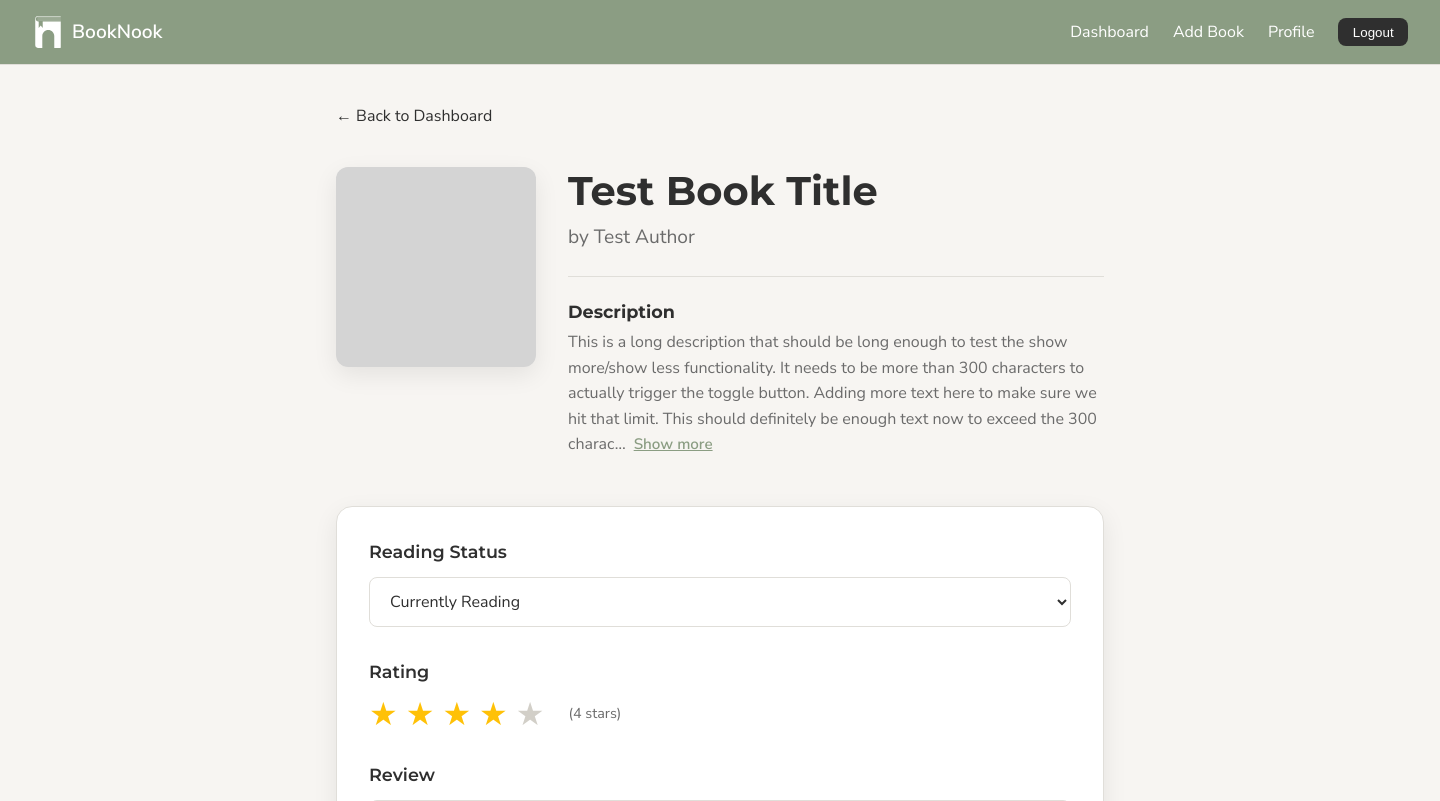
Test: BookDetails › toggles description show more/less
The image size is (1440, 801).
Expected: the heading "Test Book Title" is shown, 568,166 -> 878,215
Click the button with aria-label "Show more description". click: (673, 444)
box: 634,434 -> 713,454
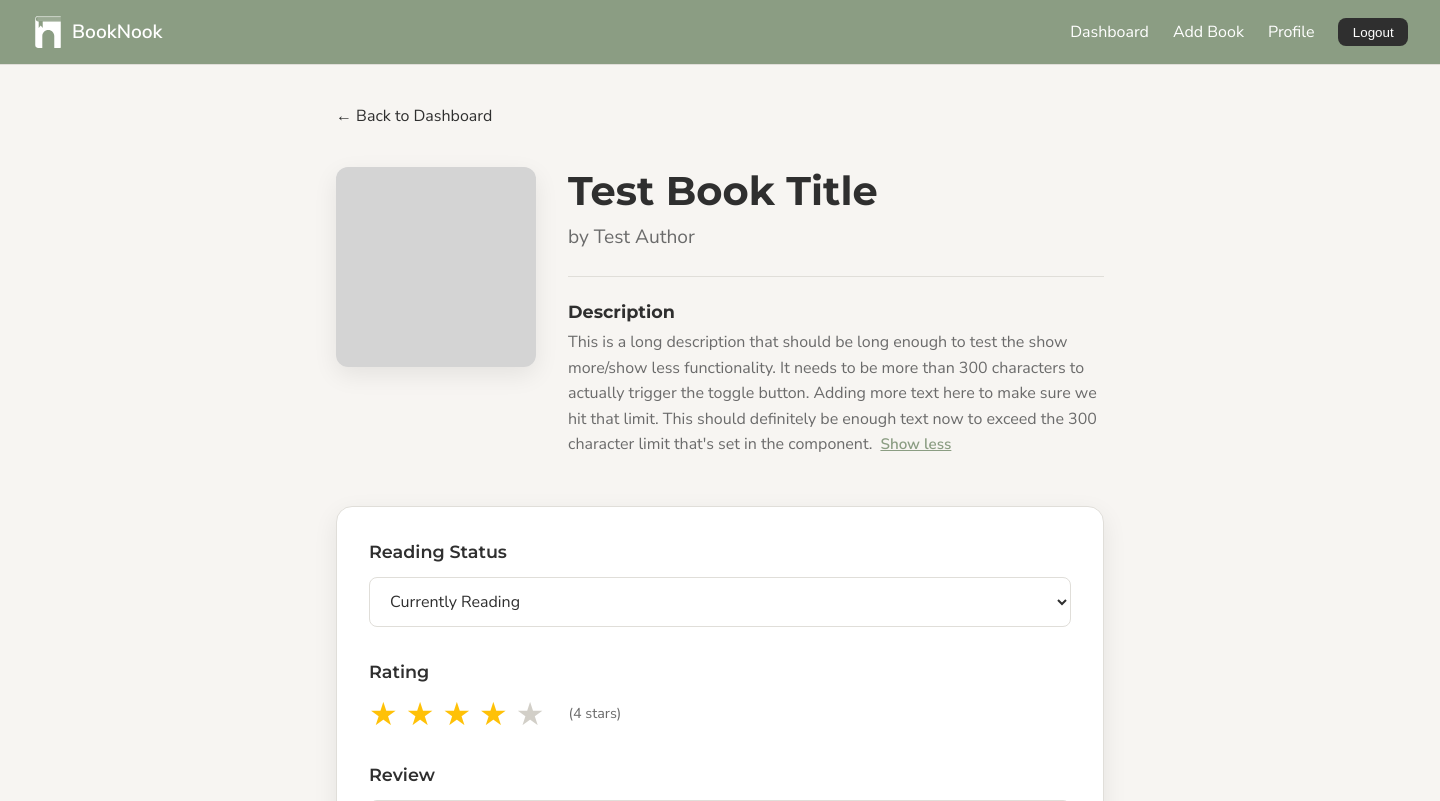
Expected: the button with aria-label "Show less description" is shown
Click the button with aria-label "Show less description". click: (916, 444)
box: 880,434 -> 951,454
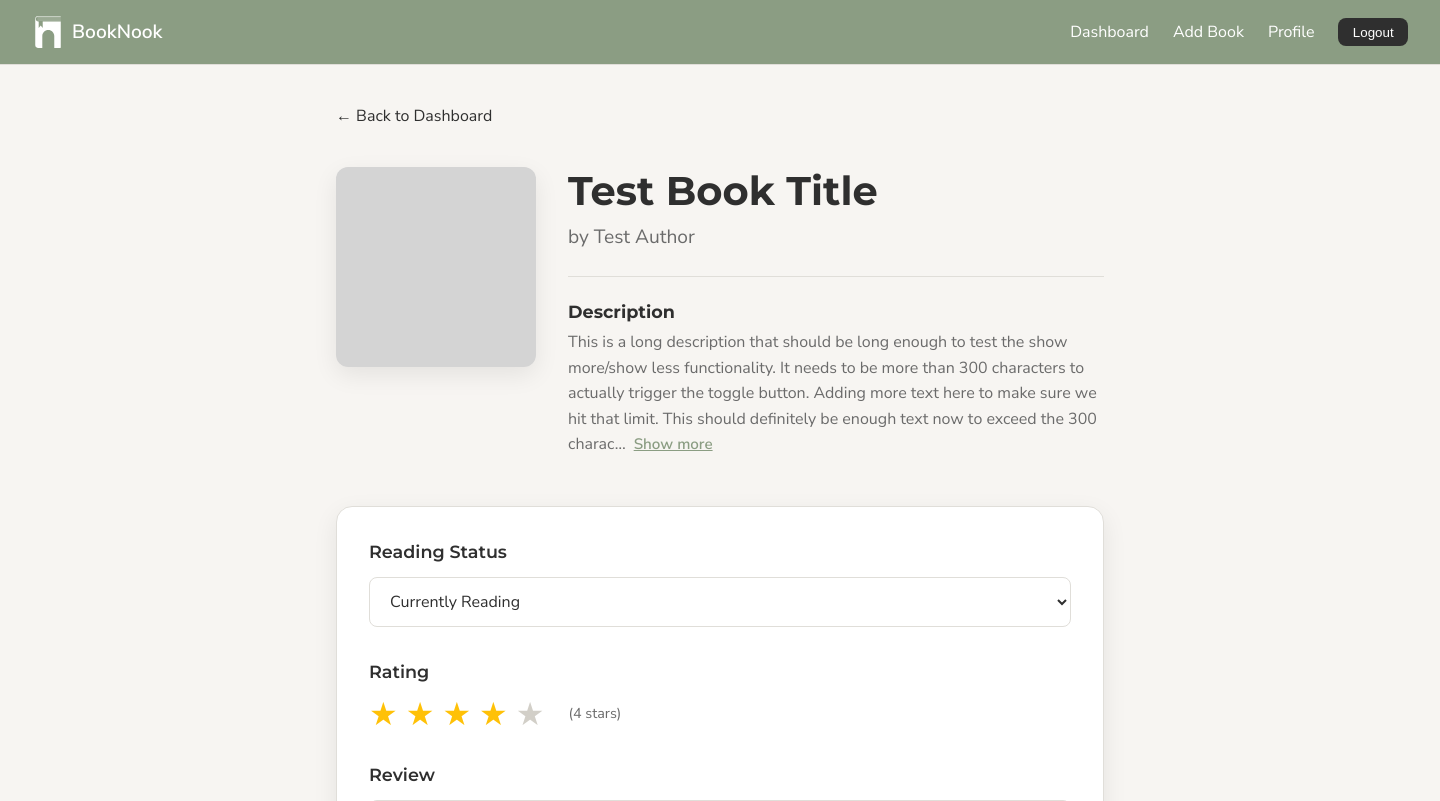
Expected: the button with aria-label "Show more description" is shown, 634,434 -> 713,454
